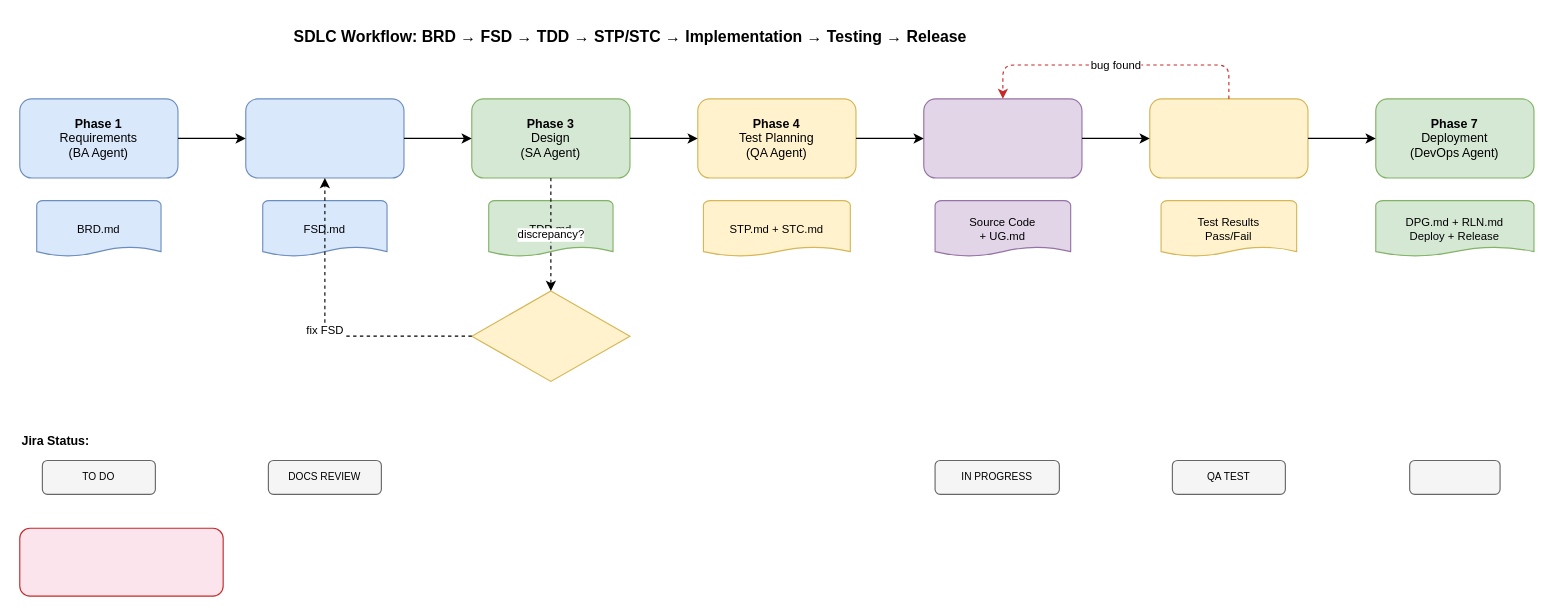
This 1554x616 diagram has some shape labels left out. The centre of each missing label's shape, as x and y in pixels:
"DONE" belongs at [1454,476].
"Phase 2 Specification (BA + TA)" belongs at [324,138].
"Phase 3.5 Feedback Loop (BA ↔ SA)" belongs at [550,335].
"Phase 5 Implementation (DEV Agent)" belongs at [1002,138].
"Phase 6 Testing (QA Agent)" belongs at [1228,138].
"Scrum Master (SM) Orchestrates all phases Enforces quality gates" belongs at [121,561].
